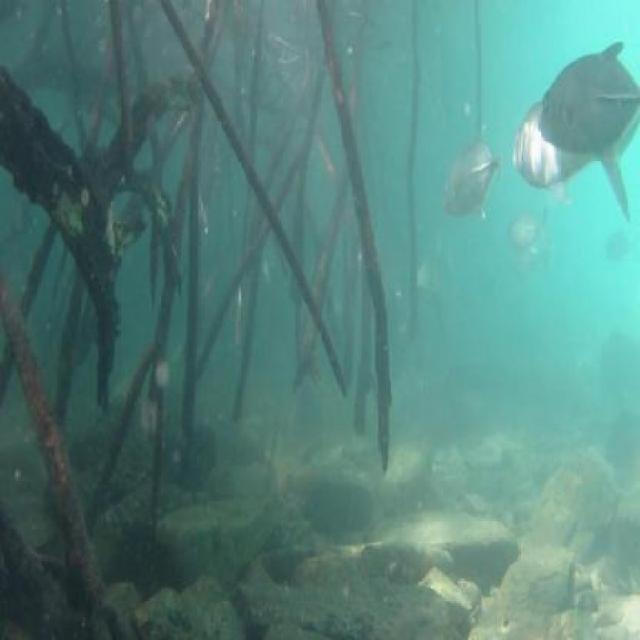Caranx_sexfasciatus_juvenile: (511, 86, 640, 220), (537, 32, 640, 163), (440, 109, 503, 234), (501, 236, 562, 289), (512, 202, 566, 250)
